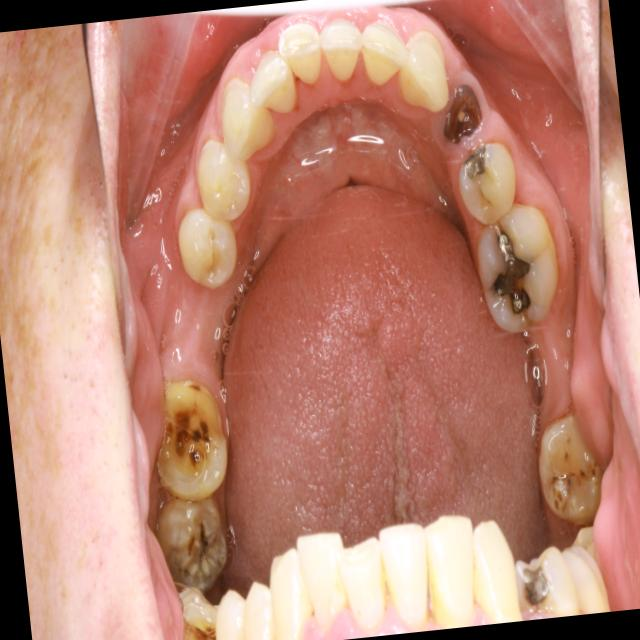tooth: (461, 197, 572, 355), (140, 357, 240, 521), (524, 409, 612, 539), (146, 485, 241, 601), (450, 129, 532, 235), (213, 64, 285, 174), (388, 13, 458, 121), (192, 130, 263, 232), (175, 200, 250, 293), (273, 12, 338, 103), (242, 40, 305, 129), (354, 15, 416, 101), (315, 11, 371, 98), (434, 74, 493, 154)
